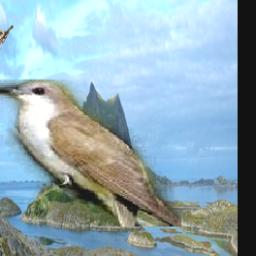Cuckoo: (0, 81, 181, 228)
Sparrow: (0, 26, 14, 51)
